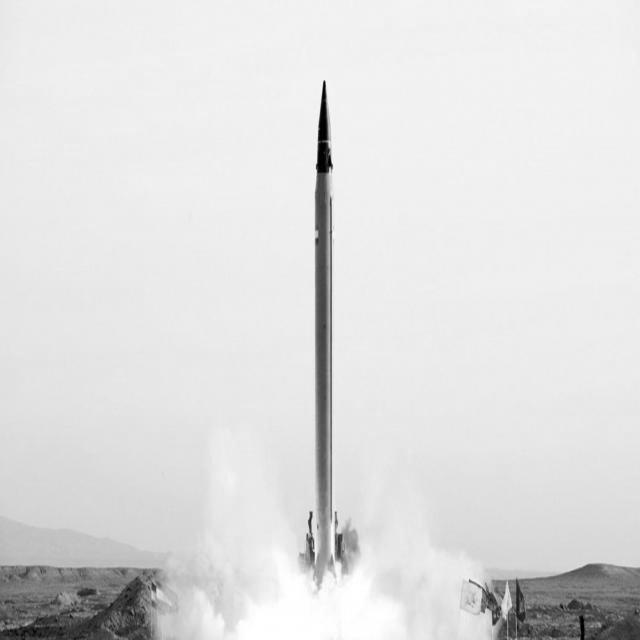missile: (311, 75, 335, 587)
